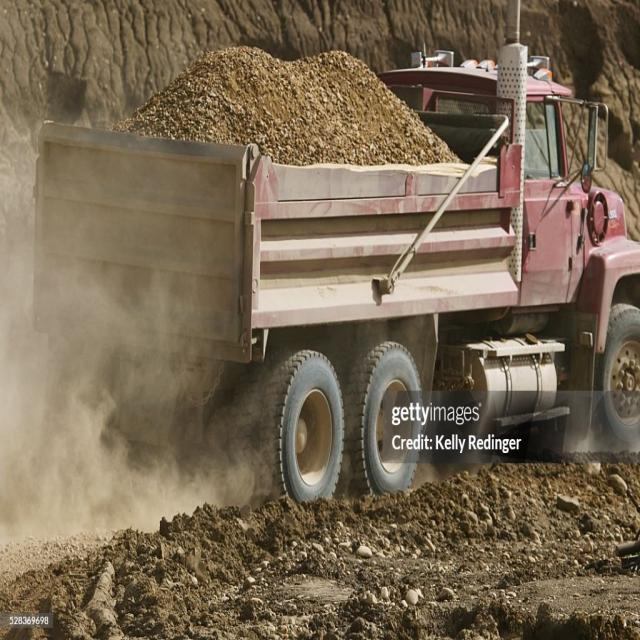uncovered: (31, 41, 628, 450)
